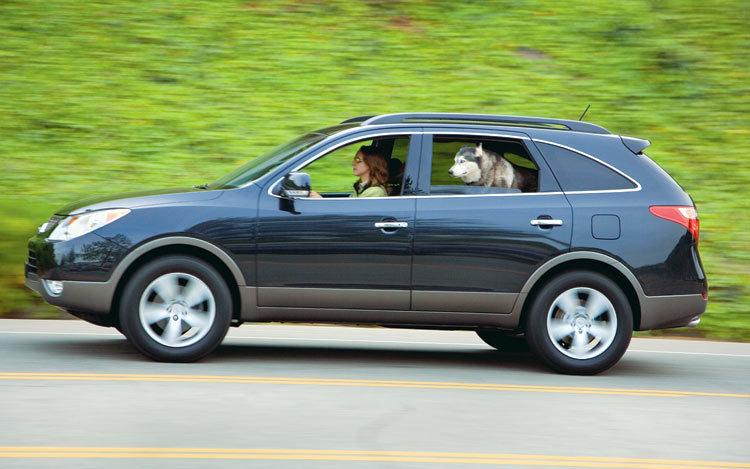car: (1, 100, 718, 406)
